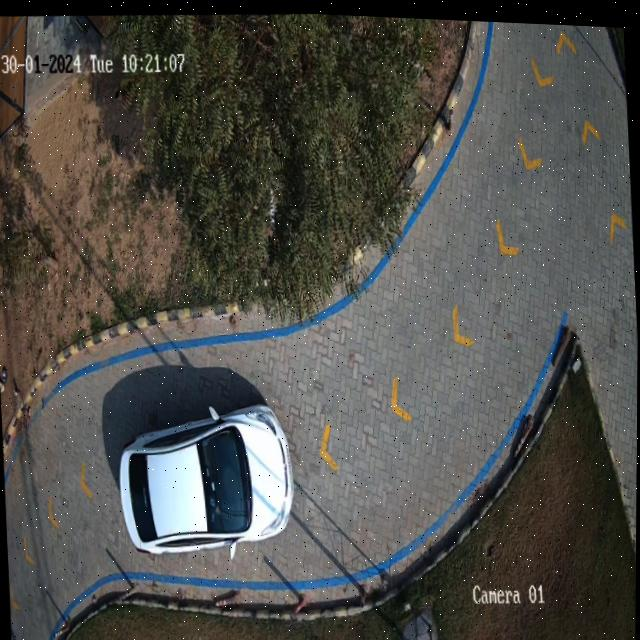car: (120, 403, 294, 554)
